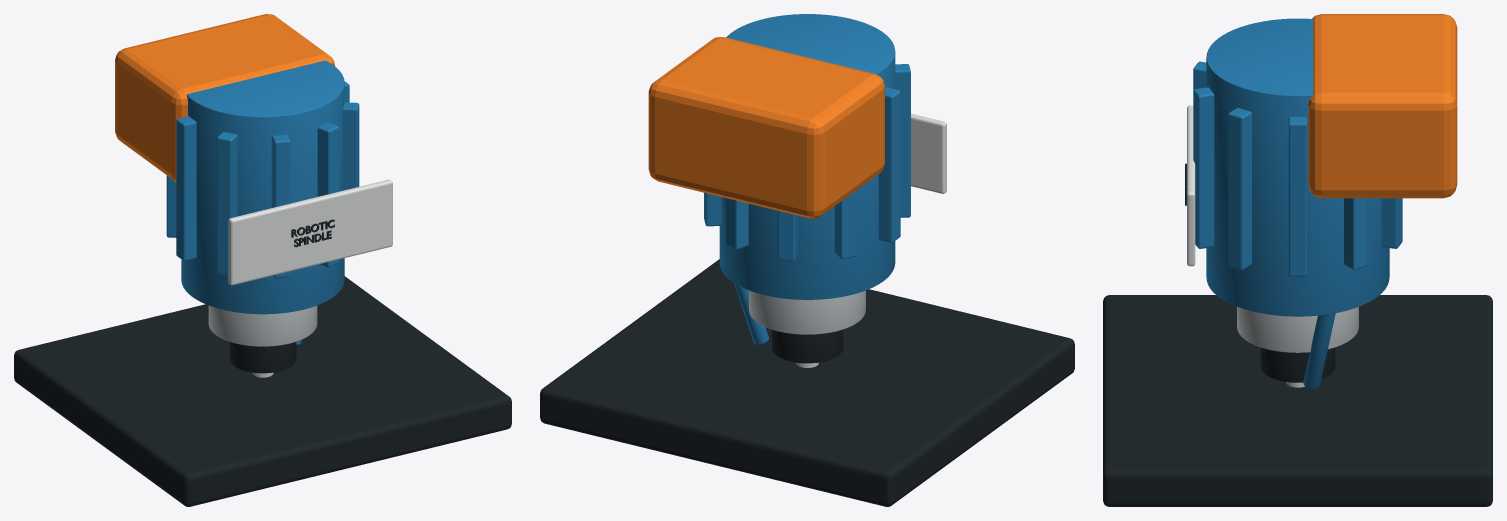
Rendered from robotic_high_speed_spindle.glb.
3 renders of one model, left to right at view 1: azimuth 30°, elevation 25°; view 2: azimuth 150°, elevation 25°; view 3: azimuth 270°, elevation 25°, orthographic. The views are drawn at different scales.
Visible parts, largest first — view 1: BASE, KIN_SPINDLE_MOTOR, ROBOT_MOUNT, NAMEPLATE, SPINDLE_NOSE, COOLING_FIN_5, COOLING_FIN_6, ER_COLLET, COOLING_FIN_8, COOLING_FIN_7, COOLING_FIN_9, COOLING_FIN_4 (+1 smaller); view 2: BASE, ROBOT_MOUNT, KIN_SPINDLE_MOTOR, SPINDLE_NOSE, COOLING_FIN_5, NAMEPLATE, ER_COLLET, COOLING_FIN_6, COOLING_FIN_4, COOLING_FIN_2, COOLING_FIN_3, COOLANT_LINE; view 3: BASE, KIN_SPINDLE_MOTOR, ROBOT_MOUNT, COOLING_FIN_9, SPINDLE_NOSE, COOLING_FIN_8, COOLING_FIN_0, COOLING_FIN_1, ER_COLLET, NAMEPLATE, COOLANT_LINE, COOLING_FIN_2.
Boxes of the visible parts, bbox=[...] form: BASE: bbox=[14, 276, 511, 506]; KIN_SPINDLE_MOTOR: bbox=[181, 60, 344, 314]; ROBOT_MOUNT: bbox=[115, 14, 335, 181]; NAMEPLATE: bbox=[228, 179, 392, 285]; SPINDLE_NOSE: bbox=[208, 305, 317, 346]; COOLING_FIN_5: bbox=[176, 116, 196, 260]; COOLING_FIN_6: bbox=[217, 132, 237, 275]; ER_COLLET: bbox=[229, 342, 296, 373]; COOLING_FIN_8: bbox=[317, 122, 339, 267]; COOLING_FIN_7: bbox=[271, 134, 290, 278]; COOLING_FIN_9: bbox=[343, 102, 359, 190]; COOLING_FIN_4: bbox=[166, 175, 176, 237]; BASE: bbox=[540, 259, 1074, 506]; ROBOT_MOUNT: bbox=[648, 37, 884, 218]; KIN_SPINDLE_MOTOR: bbox=[719, 14, 895, 299]; SPINDLE_NOSE: bbox=[749, 290, 865, 334]; COOLING_FIN_5: bbox=[878, 87, 900, 242]; NAMEPLATE: bbox=[911, 113, 946, 193]; ER_COLLET: bbox=[771, 329, 843, 363]; COOLING_FIN_6: bbox=[895, 64, 910, 217]; COOLING_FIN_4: bbox=[834, 190, 856, 259]; COOLING_FIN_2: bbox=[725, 198, 748, 249]; COOLING_FIN_3: bbox=[777, 211, 797, 261]; COOLANT_LINE: bbox=[734, 283, 769, 344]; BASE: bbox=[1103, 295, 1492, 506]; KIN_SPINDLE_MOTOR: bbox=[1206, 18, 1389, 316]; ROBOT_MOUNT: bbox=[1308, 14, 1457, 198]; COOLING_FIN_9: bbox=[1228, 108, 1251, 269]; SPINDLE_NOSE: bbox=[1237, 307, 1358, 352]; COOLING_FIN_8: bbox=[1193, 87, 1214, 248]; COOLING_FIN_0: bbox=[1288, 117, 1307, 276]; COOLING_FIN_1: bbox=[1344, 198, 1367, 269]; ER_COLLET: bbox=[1260, 347, 1335, 382]; NAMEPLATE: bbox=[1187, 105, 1195, 266]; COOLANT_LINE: bbox=[1303, 313, 1335, 389]; COOLING_FIN_2: bbox=[1381, 198, 1402, 248].
Bounding box in the file's own units: 1.25 × 1.38 × 1.15.
